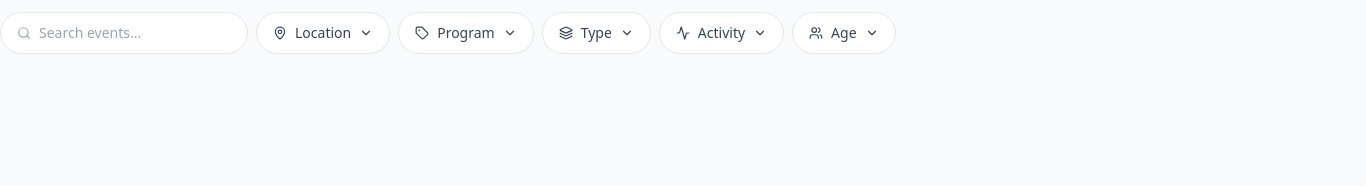
Test: HorizontalFilterBar › Filter Dropdowns › opens Type dropdown on click
The image size is (1366, 186).
Click the button "Type": (596, 33) x1=542 y1=12 x2=651 y2=54
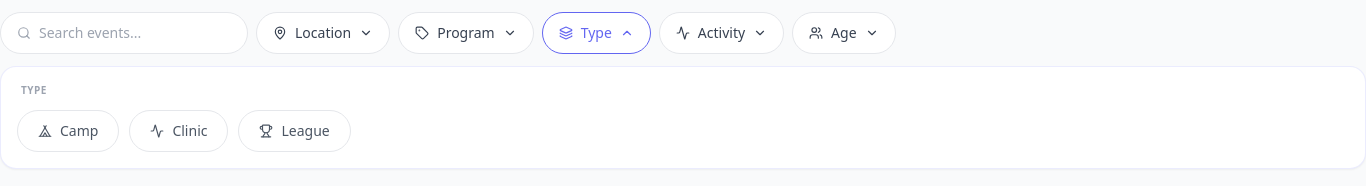
Expected: the button "Camp" is shown, x1=17 y1=110 x2=119 y2=152
